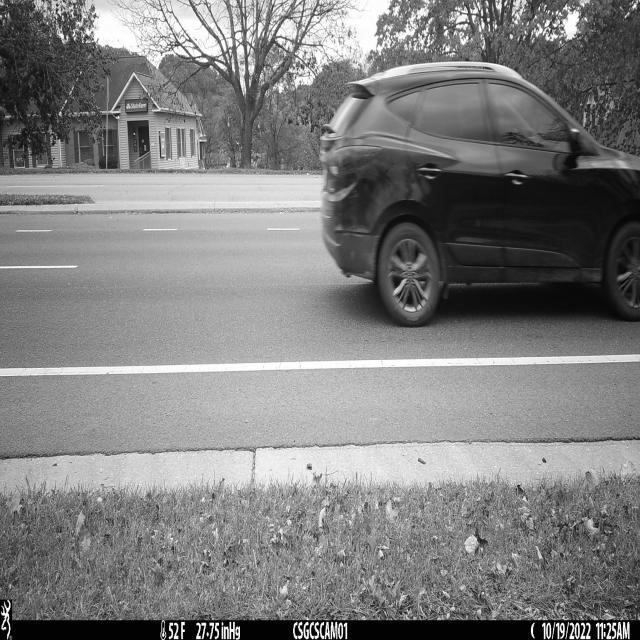SUV: (321, 61, 640, 329)
